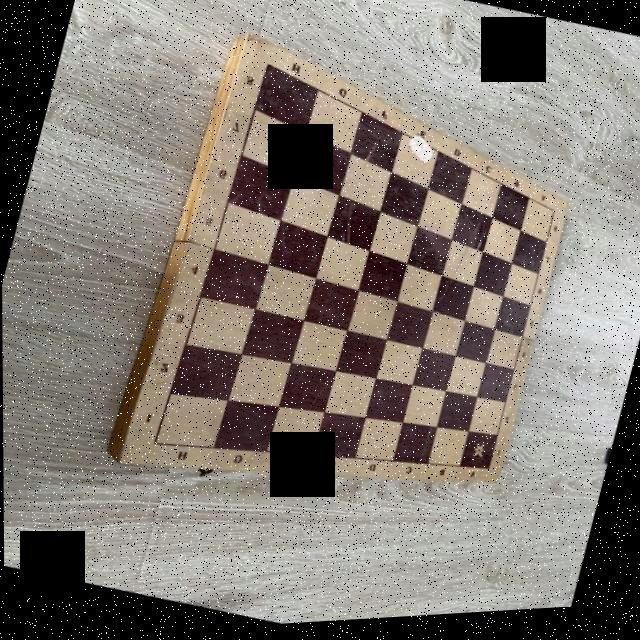chess-table-corners: (262, 63, 272, 73), (548, 214, 558, 222), (148, 441, 156, 449), (484, 472, 490, 476)
